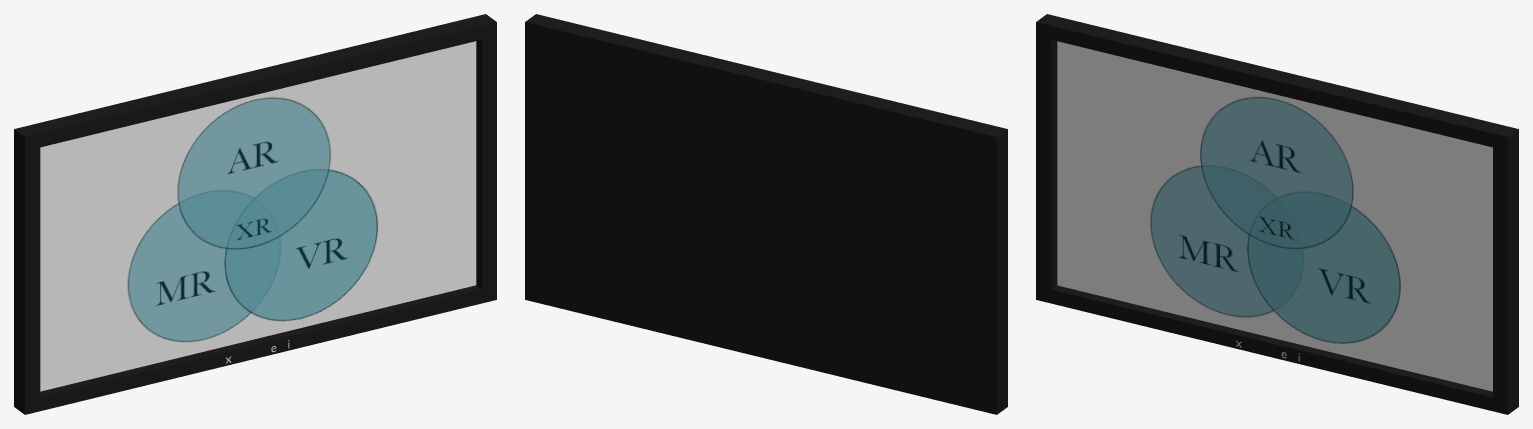
Rendered from xrPoster.gltf.
3 renders of one model, left to right at view 1: azimuth 30°, elevation 25°; view 2: azimuth 150°, elevation 25°; view 3: azimuth 330°, elevation 25°, orthographic.
Visible parts, largest first — view 1: Cube.008; view 2: Cube.008; view 3: Cube.008.
Part boxes in pixels (x1,y1,x2,y2): Cube.008: (14,14,496,414); Cube.008: (525,14,1007,414); Cube.008: (1036,14,1518,414).
Bounding box in the file's own units: 2.47 × 1.39 × 0.103.
Materials: 2 (1 with a texture image).
